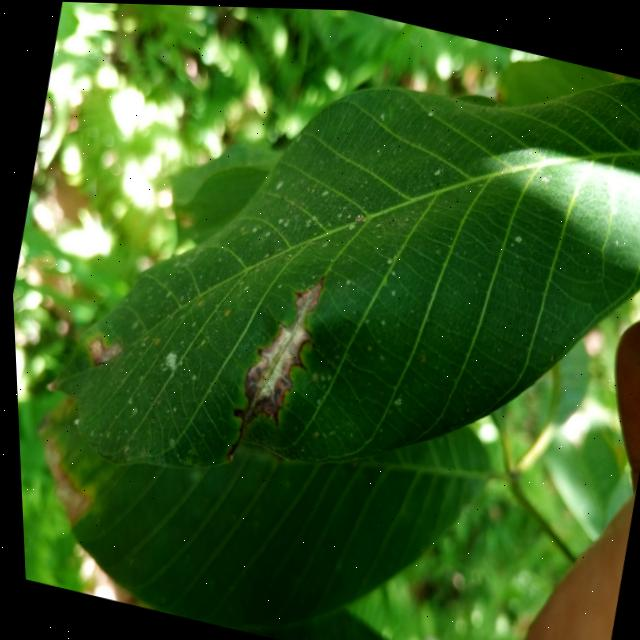Corynespora: (211, 256, 330, 475)
